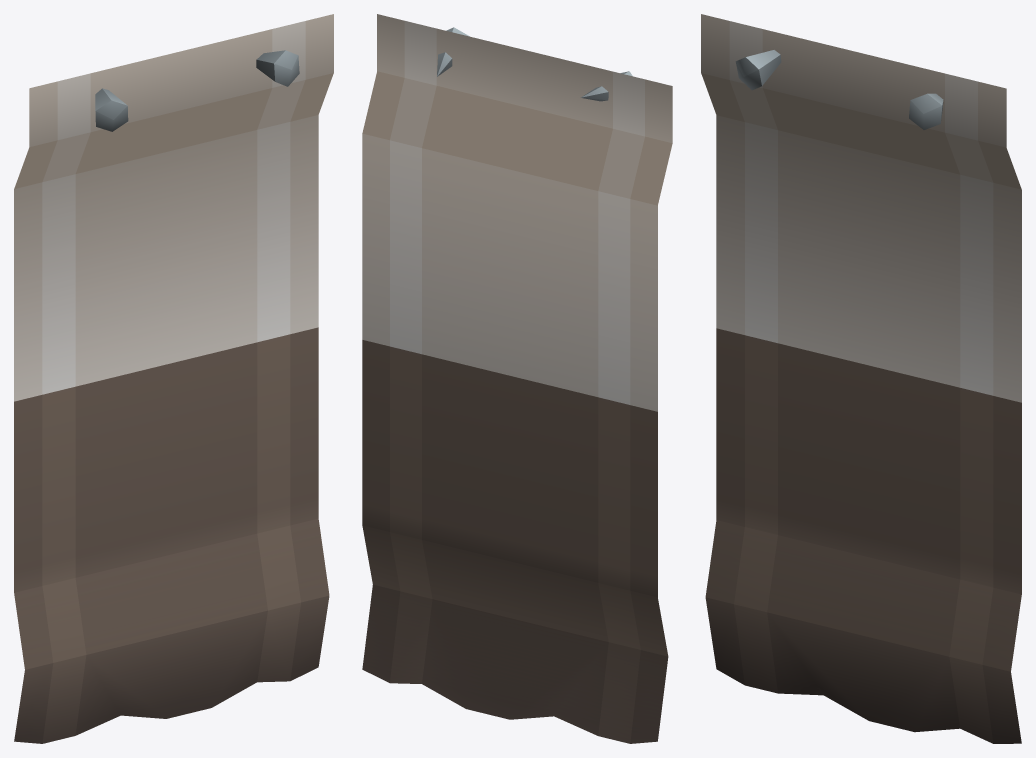
The model's file is banner_patternB_white.gltf.
The picture shows the model from 3 angles, left to right: view 1: azimuth 30°, elevation 25°; view 2: azimuth 150°, elevation 25°; view 3: azimuth 330°, elevation 25°; orthographic projection. The views are drawn at different scales.
Parts seen in each view (by area): view 1: banner_patternB_white; view 2: banner_patternB_white; view 3: banner_patternB_white.
Boxes of the visible parts, <box> form: banner_patternB_white: <box>14,14,333,743</box>; banner_patternB_white: <box>362,14,672,743</box>; banner_patternB_white: <box>701,14,1021,743</box>.
Size of the model in its own units: 1.5 by 3.2 by 0.3119.
Materials: 1 (1 with a texture image).
